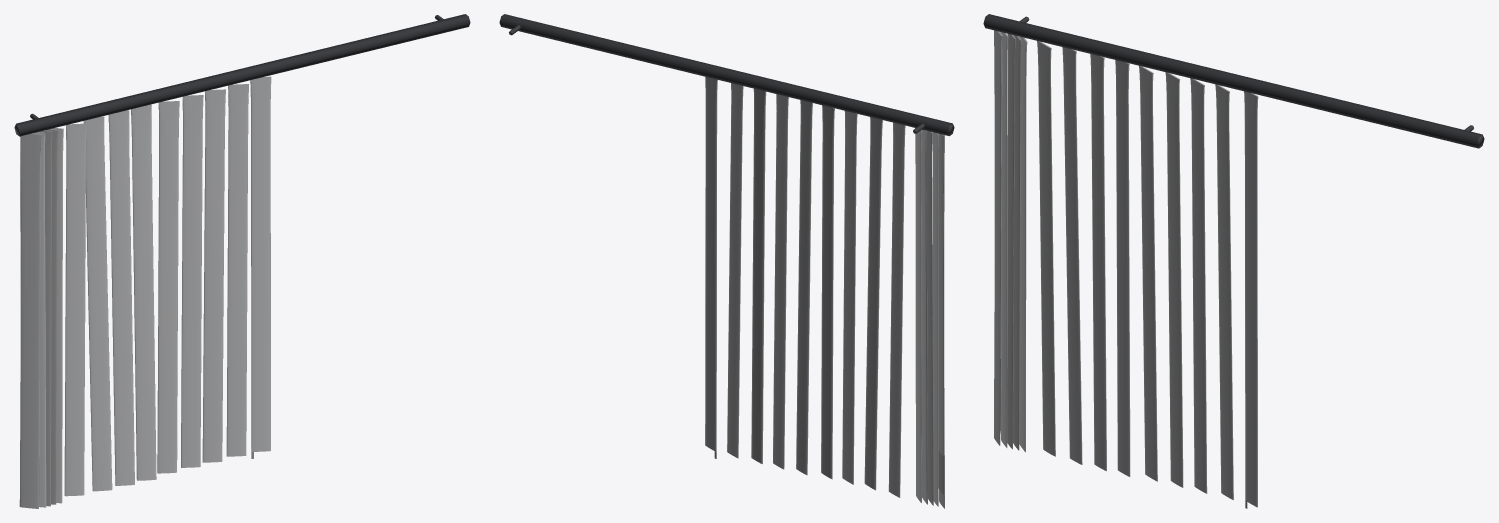
Rendered from SM_Curtain 1.fbx.
3 renders of one model, left to right at view 1: azimuth 30°, elevation 25°; view 2: azimuth 150°, elevation 25°; view 3: azimuth 330°, elevation 25°, orthographic. The views are drawn at different scales.
Visible parts, largest first — view 1: SM_CurtainsWhiteGrey_01; view 2: SM_CurtainsWhiteGrey_01; view 3: SM_CurtainsWhiteGrey_01.
Boxes of the visible parts, bbox=[...] form: SM_CurtainsWhiteGrey_01: bbox=[14, 14, 470, 508]; SM_CurtainsWhiteGrey_01: bbox=[499, 14, 954, 508]; SM_CurtainsWhiteGrey_01: bbox=[983, 14, 1484, 508].
Size of the model in its own units: 70.14 by 58.45 by 4.55.
